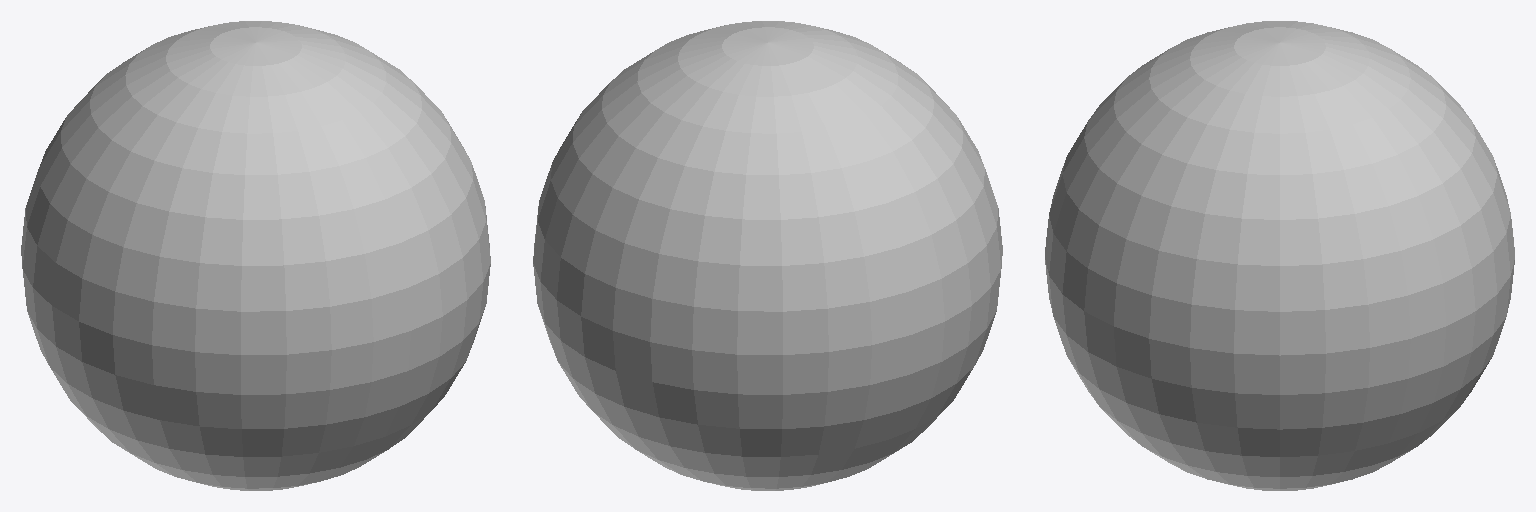
The model's file is pedestal.obj.
The picture shows the model from 3 angles: view 1: azimuth 30°, elevation 25°; view 2: azimuth 150°, elevation 25°; view 3: azimuth 270°, elevation 25°; orthographic projection.
Parts seen in each view (by area): view 1: Sphere; view 2: Sphere; view 3: Sphere.
Boxes of the visible parts, x1=… form: Sphere: x1=21, y1=21, x2=490, y2=490; Sphere: x1=533, y1=21, x2=1002, y2=490; Sphere: x1=1045, y1=21, x2=1514, y2=490.
Bounding box in the file's own units: 2 × 2 × 2.